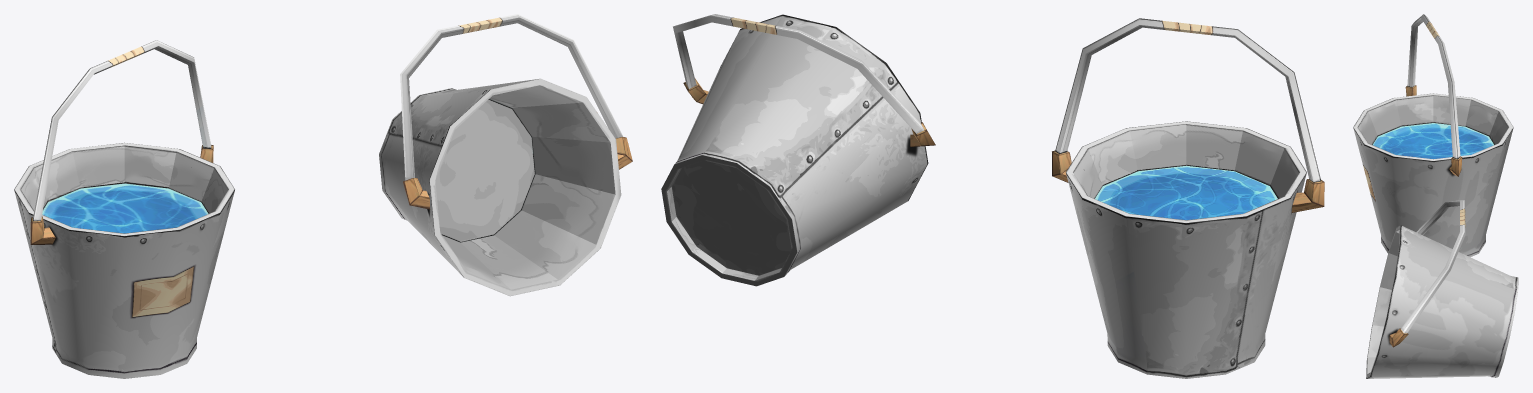
Rendered from bucket.fbx.
3 views of the same model, side by side, from view 1: azimuth 30°, elevation 25°; view 2: azimuth 150°, elevation 25°; view 3: azimuth 270°, elevation 25° (orthographic). The views are drawn at different scales.
Visible parts, largest first — view 1: bucket2, bucket1; view 2: bucket1, bucket2; view 3: bucket1, bucket2.
Boxes of the visible parts, left/top/right/bottom form: bucket2: left=379, top=14, right=632, bottom=296; bucket1: left=14, top=40, right=234, bottom=378; bucket1: left=1052, top=18, right=1324, bottom=378; bucket2: left=661, top=14, right=935, bottom=286; bucket1: left=1353, top=14, right=1513, bottom=257; bucket2: left=1366, top=200, right=1518, bottom=378.
Size of the model in its own units: 43.59 by 20.77 by 14.55.
Materials: 2 (2 with a texture image).
